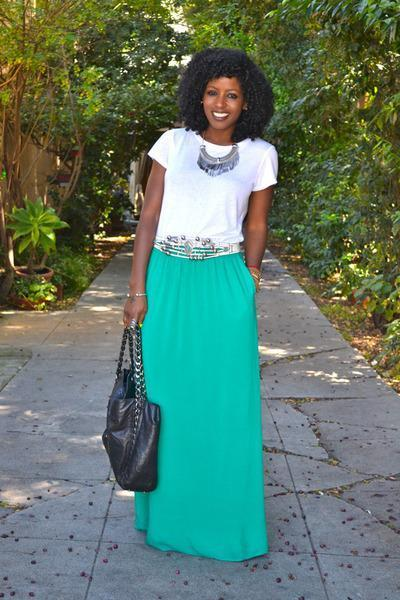bag: (102, 324, 161, 491)
shirt: (148, 128, 277, 247)
skirt: (135, 247, 267, 560)
